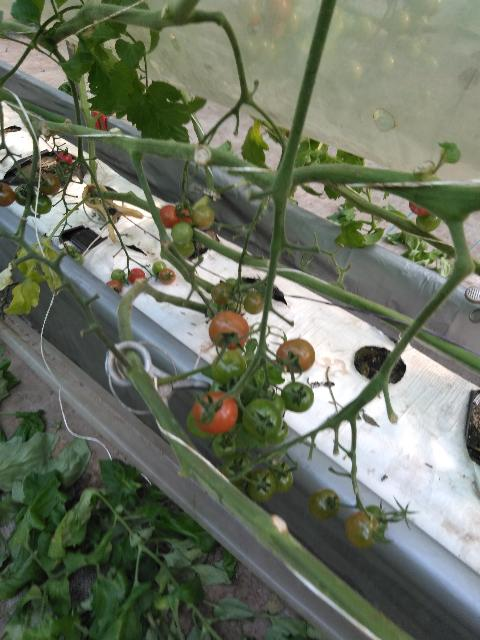l_fully_ripened: (192, 391, 239, 435), (160, 205, 180, 229), (408, 201, 430, 216), (128, 268, 145, 285), (56, 151, 73, 167)
l_green: (243, 398, 282, 441), (211, 351, 247, 386), (280, 382, 315, 413), (220, 455, 252, 487), (308, 489, 340, 520), (247, 468, 276, 502), (269, 463, 293, 493), (363, 506, 387, 534), (266, 419, 288, 445), (213, 434, 236, 458), (171, 221, 193, 245), (14, 183, 36, 206), (416, 212, 441, 231), (31, 194, 53, 215), (173, 240, 195, 257), (111, 269, 126, 285), (152, 261, 167, 276)
l_half_ripened: (209, 311, 250, 349), (276, 339, 316, 373), (345, 509, 379, 549), (191, 205, 214, 231), (211, 283, 236, 306), (36, 173, 60, 196), (243, 292, 264, 314), (0, 182, 16, 207), (158, 269, 176, 284), (106, 280, 122, 293)
